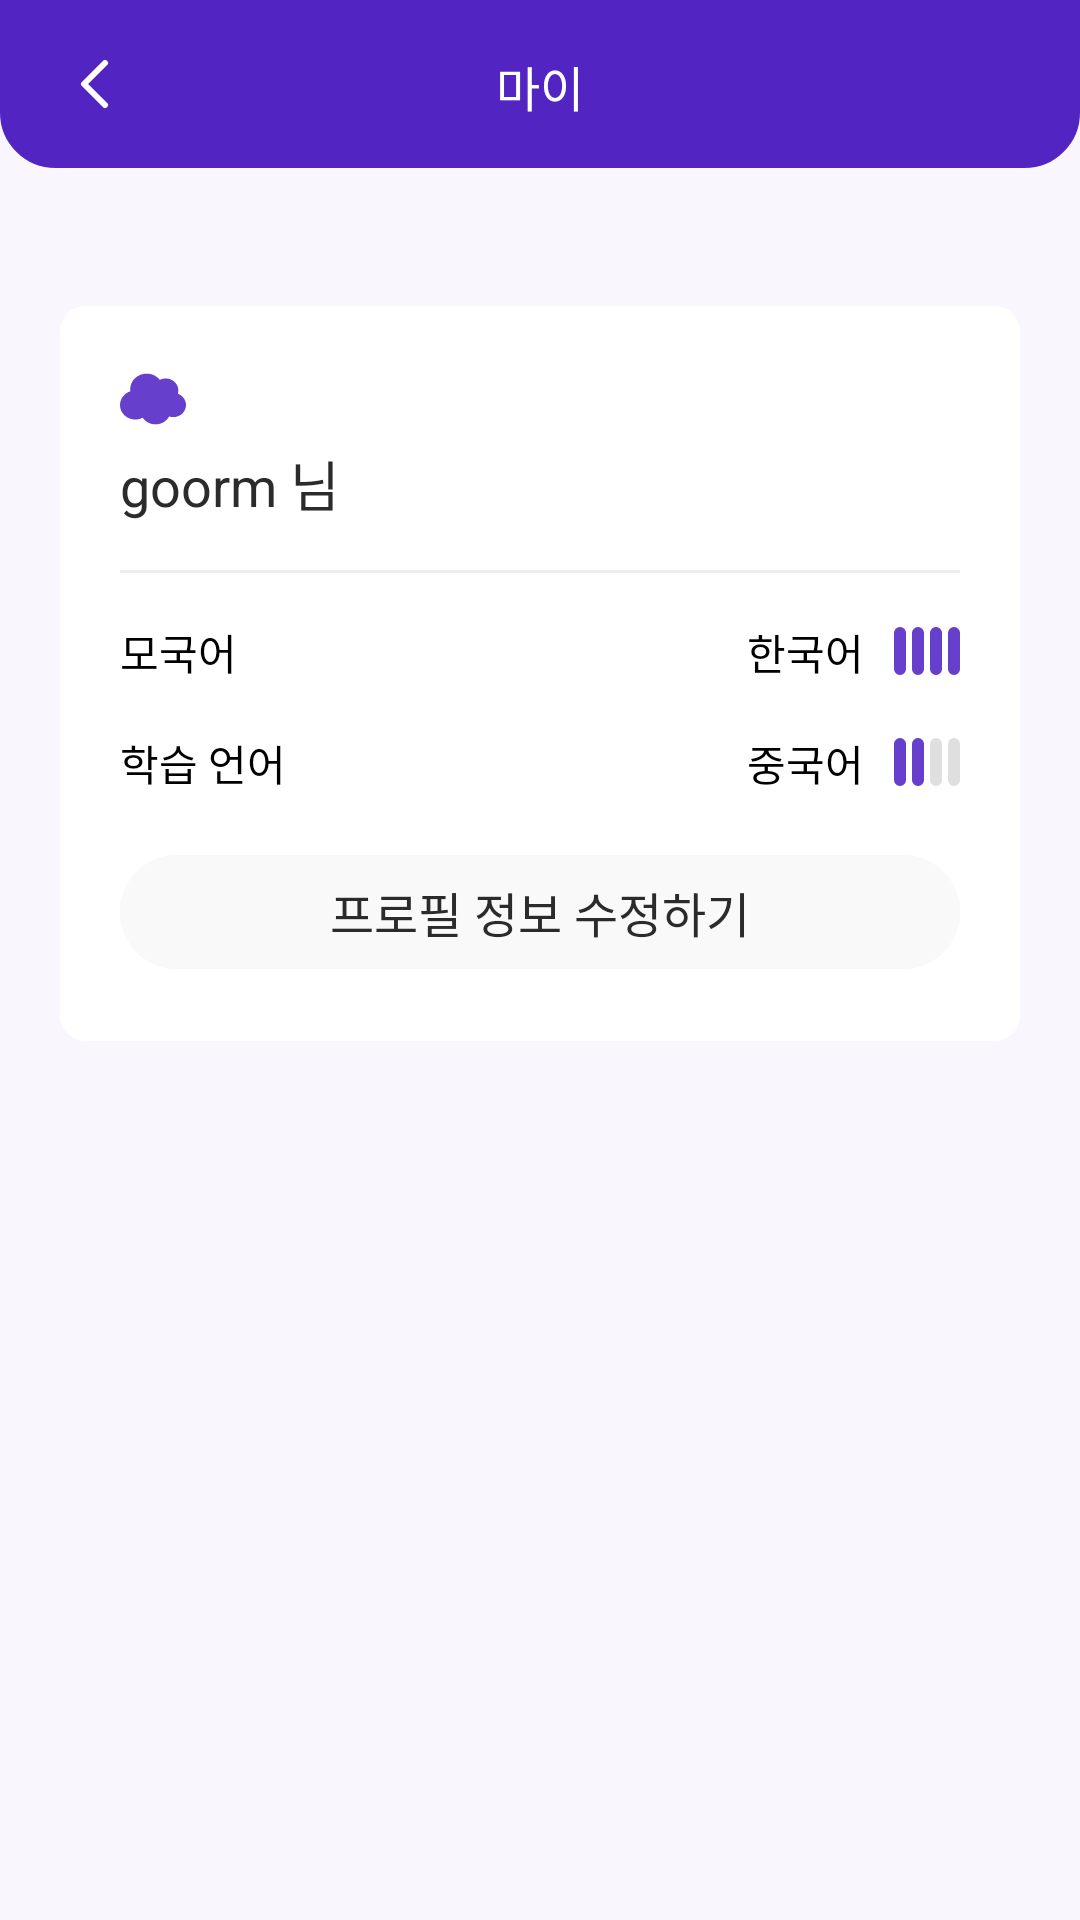

Where icons sit on this 1080px×1920px app screen, as (x1, y1, x2, y2):
chevron left: (81, 60, 108, 108)
cloud: (120, 373, 186, 425)
lang level: (894, 627, 960, 675), (894, 738, 960, 786)
